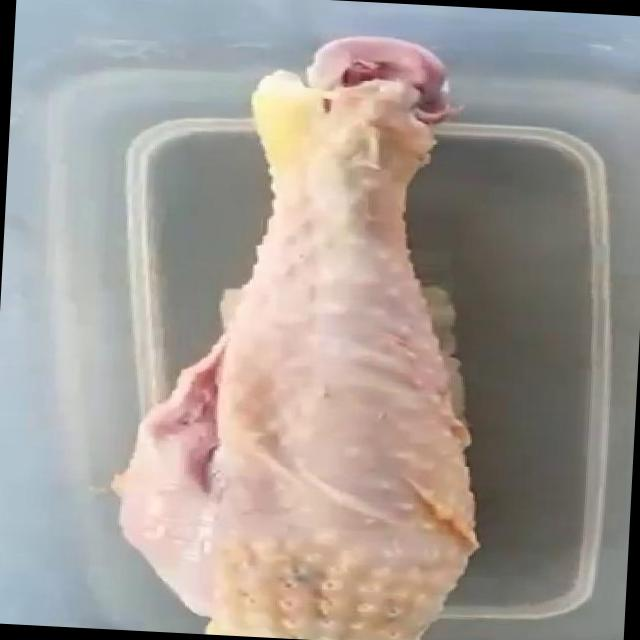chicken: (95, 19, 526, 640)
